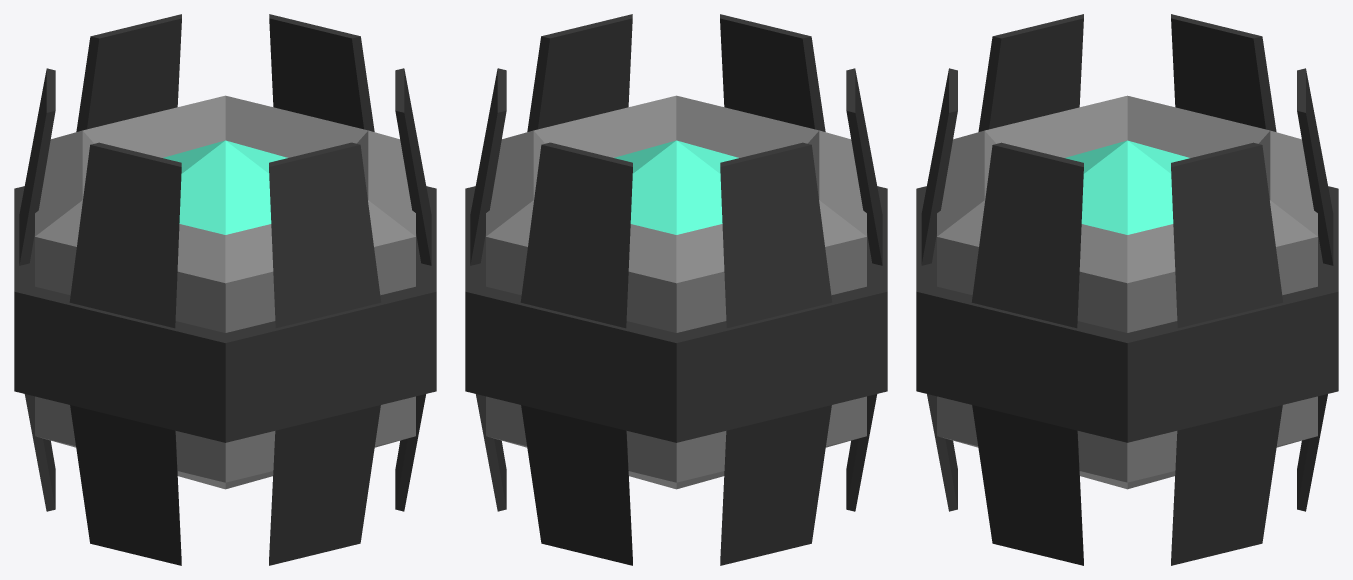
Rendered from eye.obj.
The picture shows the model from 3 angles, left to right: view 1: azimuth 30°, elevation 25°; view 2: azimuth 150°, elevation 25°; view 3: azimuth 270°, elevation 25°; orthographic projection.
Parts seen in each view (by area): view 1: frame, grey, eye; view 2: frame, grey, eye; view 3: frame, grey, eye.
Boxes of the visible parts, box(x1,y1,x2,y2) form: frame: box(14, 14, 436, 565); grey: box(35, 95, 415, 489); eye: box(163, 140, 287, 234); frame: box(465, 14, 887, 565); grey: box(486, 95, 866, 489); eye: box(614, 140, 738, 234); frame: box(916, 14, 1338, 565); grey: box(937, 95, 1317, 489); eye: box(1065, 140, 1189, 234).
Size of the model in its own units: 1.11 by 1 by 0.9598.
